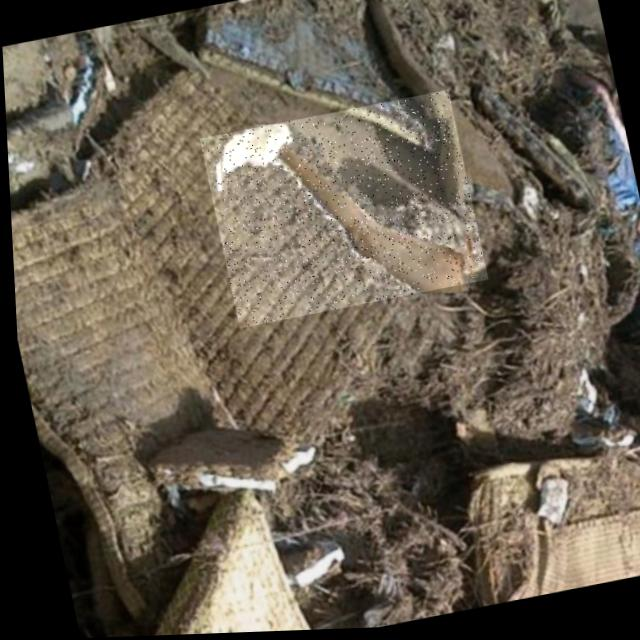Person in Rubble: (195, 93, 486, 331)
